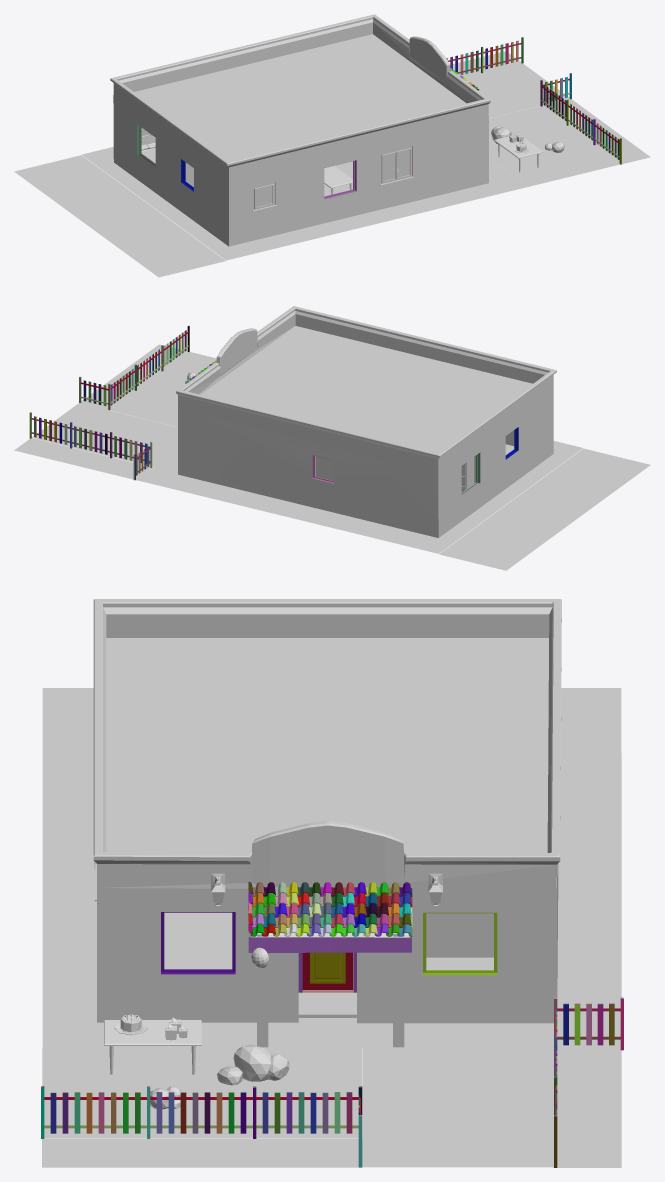
File: CasaFinal.fbx
3 views of the same model, one above another, from view 1: azimuth 30°, elevation 25°; view 2: azimuth 150°, elevation 25°; view 3: azimuth 270°, elevation 25° (orthographic). The views are drawn at different scales.
Visible parts, largest first — view 1: techo_1, muro_1, jardin_1, piso_6_low, jardin_2, piso_afuera_1, barda_2, tierra_1, barda_1, tierra_2, mesa_1.001, mesa_1 (+5 smaller); view 2: techo_1, muro_1, jardin_1, piso_6_low, piso_afuera_1, jardin_2, barda_1, barda_2, tierra_2, tierra_1; view 3: techo_1, piso_6_low, muro_1, piso_afuera_1, jardin_2, techo_afuera_1, tierra_1, barda_2, tierra_2, jardin_1, piso_1_low, barda_1 (+8 smaller).
Part boxes in pixels (x1,y1,x2,y2): techo_1: (110, 14, 490, 179); muro_1: (113, 95, 488, 246); jardin_1: (14, 155, 225, 277); piso_6_low: (82, 147, 526, 260); jardin_2: (489, 106, 619, 186); piso_afuera_1: (464, 63, 569, 118); barda_2: (540, 73, 621, 164); tierra_1: (542, 99, 650, 164); barda_1: (446, 37, 523, 75); tierra_2: (453, 51, 522, 77); mesa_1.001: (494, 134, 543, 172); mesa_1: (324, 166, 352, 194); techo_1: (176, 306, 556, 470); muro_1: (178, 387, 553, 537); jardin_1: (439, 448, 650, 570); piso_6_low: (137, 441, 582, 553); piso_afuera_1: (32, 403, 177, 467); jardin_2: (110, 352, 216, 426); barda_1: (29, 412, 152, 480); barda_2: (79, 325, 189, 410); tierra_2: (14, 438, 153, 480); tierra_1: (80, 344, 187, 410); techo_1: (93, 599, 561, 888); piso_6_low: (42, 753, 621, 1047); muro_1: (97, 863, 558, 1023); piso_afuera_1: (362, 1047, 552, 1167); jardin_2: (42, 1047, 362, 1138); techo_afuera_1: (248, 881, 412, 952); tierra_1: (42, 1138, 362, 1167); barda_2: (41, 1086, 362, 1167); tierra_2: (553, 1047, 621, 1167); jardin_1: (42, 688, 621, 752); piso_1_low: (164, 912, 353, 990); barda_1: (554, 997, 623, 1167).
Size of the model in its own units: 2013 by 406 by 1032.
